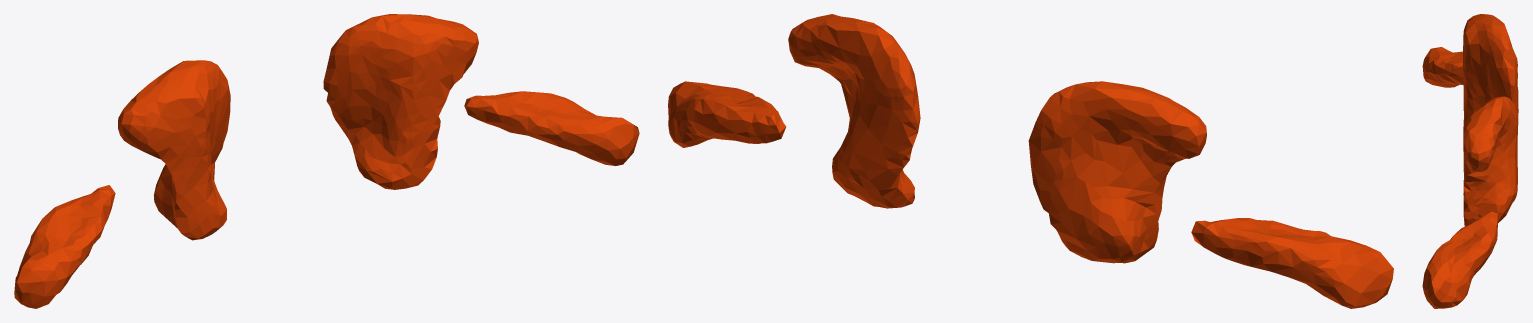
The model's file is 208-V3D-visual area 3, dorsal part-('1.0000', '0.3059', '0.0000').obj.
The picture shows the model from 3 angles, left to right: view 1: azimuth 30°, elevation 25°; view 2: azimuth 150°, elevation 25°; view 3: azimuth 270°, elevation 25°; orthographic projection. The views are drawn at different scales.
Size of the model in its own units: 261 by 68.04 by 44.19.
